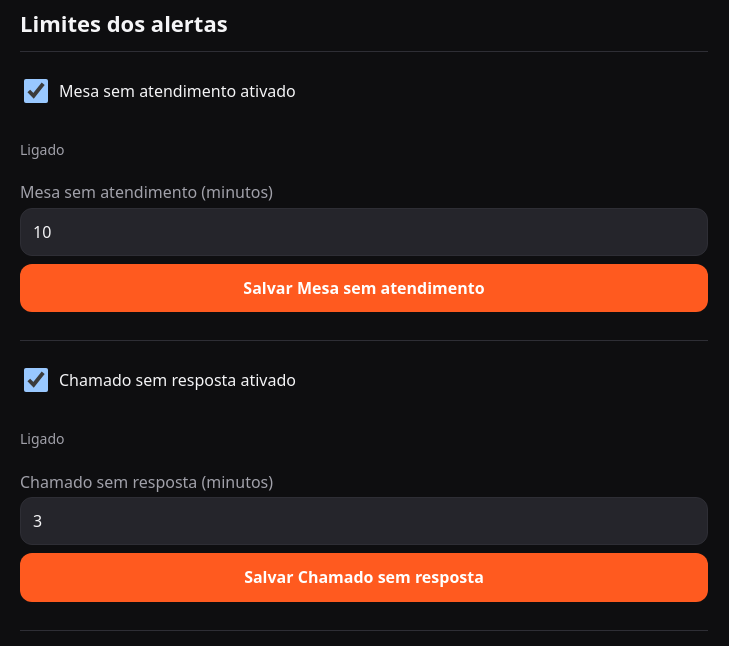
Limites dos alertas › valor 0 fora da faixa não chama a API
Replace the text in the field labelled "Mesa sem atendimento (minutos)" with "0" at {"x": 364, "y": 232}, box [20,208,708,256]
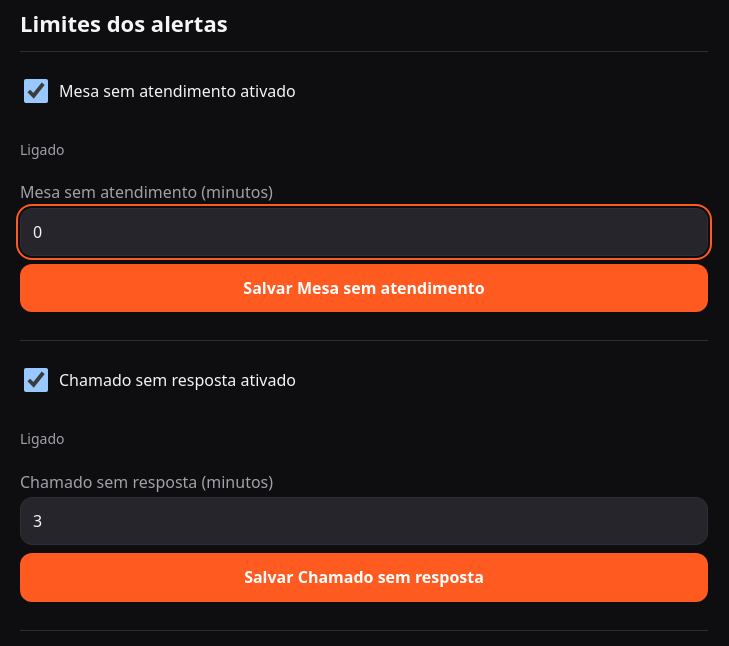
Click the button "Salvar Mesa sem atendimento".
click(364, 288)  # box [20,264,708,312]
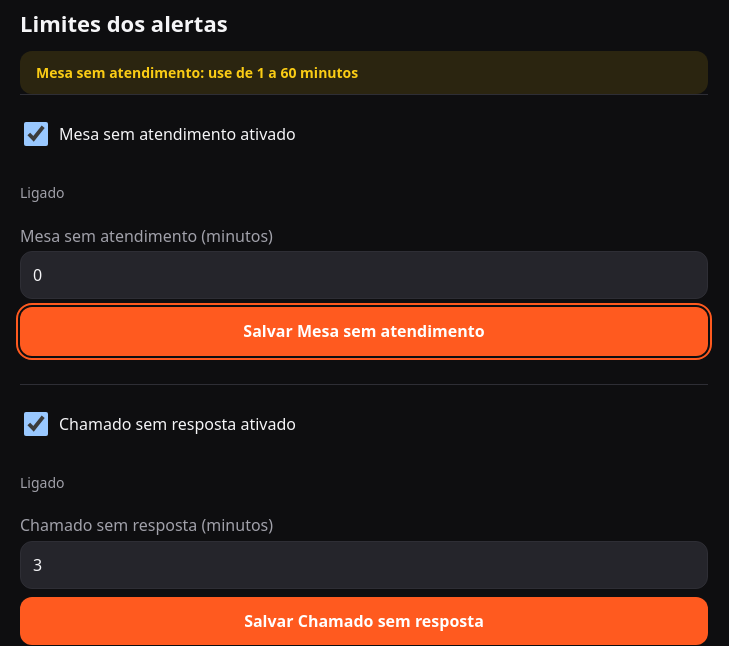
Now the message shows "use de 1 a 60 minutos", box [36,63,358,82]
